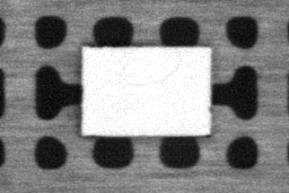DIE_CRACK: (124, 65, 178, 87)
